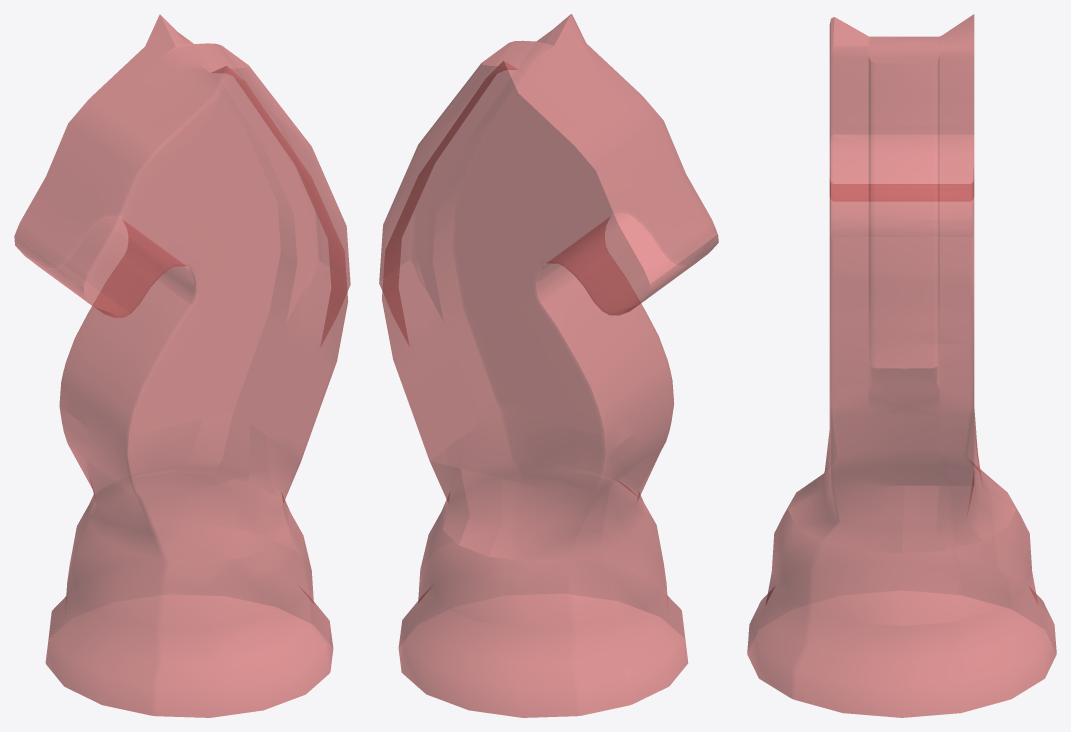
File: SM_Horsey.fbx
3 views of the same model, side by side, from view 1: azimuth 30°, elevation 25°; view 2: azimuth 150°, elevation 25°; view 3: azimuth 270°, elevation 25° (orthographic). The views are drawn at different scales.
Parts seen in each view (by area): view 1: SM_Knight; view 2: SM_Knight; view 3: SM_Knight.
Part boxes in pixels (<box>): SM_Knight: <box>14,14,350,717</box>; SM_Knight: <box>379,14,718,717</box>; SM_Knight: <box>747,14,1056,717</box>.
Size of the model in its own units: 1.45 by 2.95 by 1.29.
